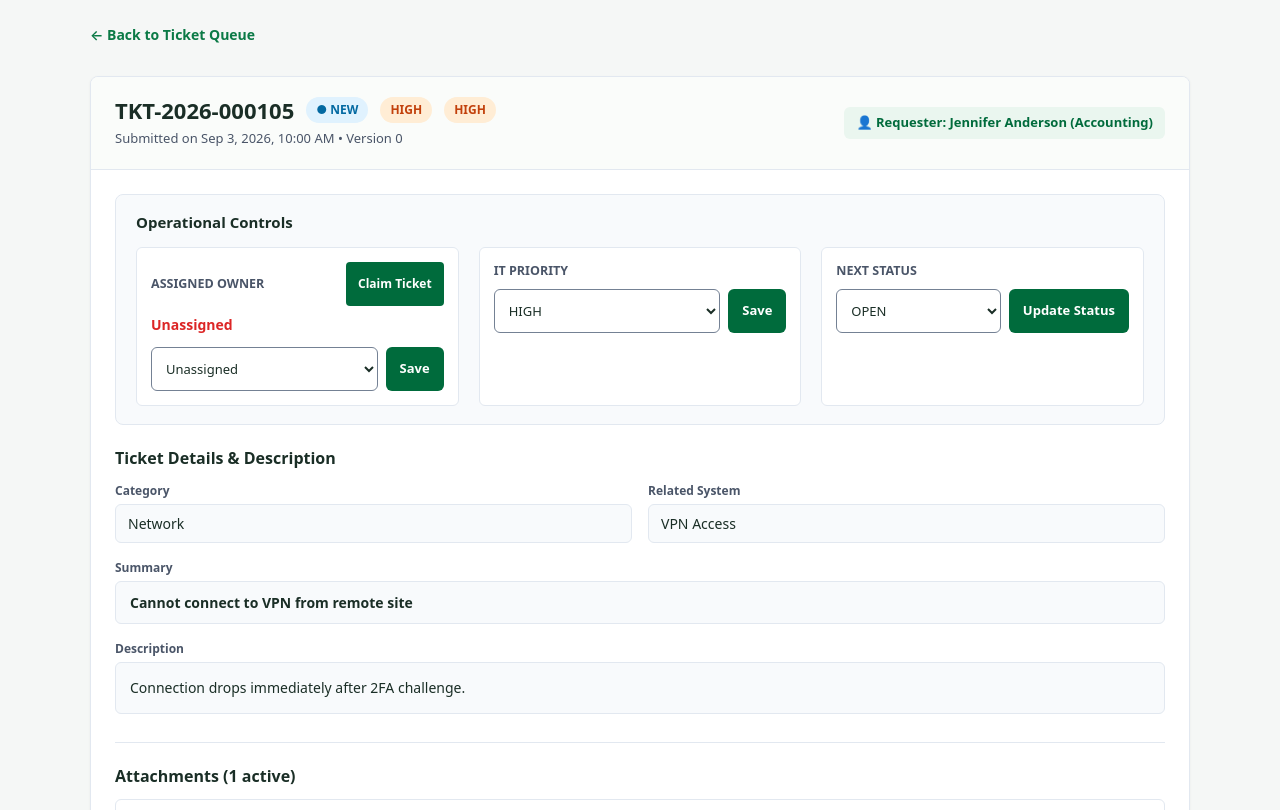
Test: UI-05, UI-06, UI-09: Staff Ticket Detail Operations Component › updates IT Priority and displays updated value
Step 1. Select "URGENT" in the dropdown with test id "select-it-priority" → (607, 311), box x1=494 y1=289 x2=720 y2=333
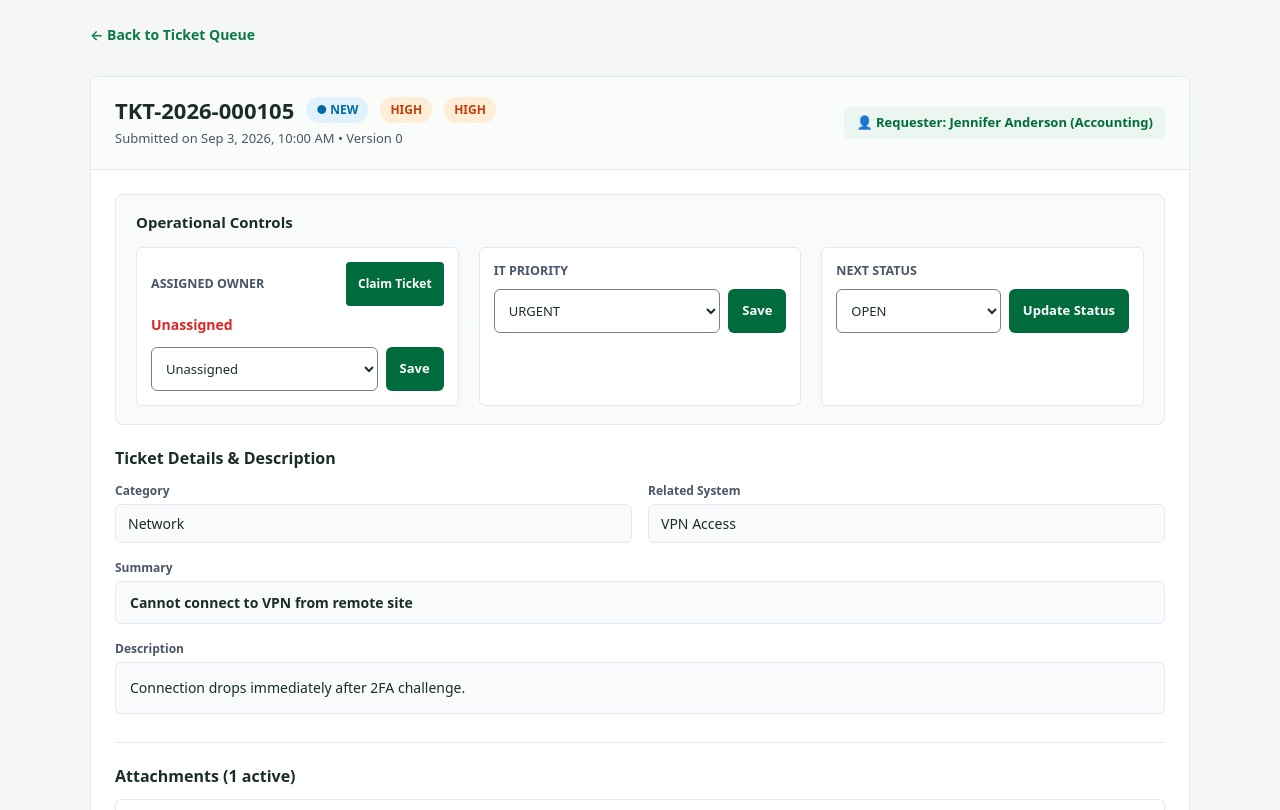
Step 2. Click the button with test id "btn-save-it-priority" → (757, 311), box x1=728 y1=289 x2=786 y2=333
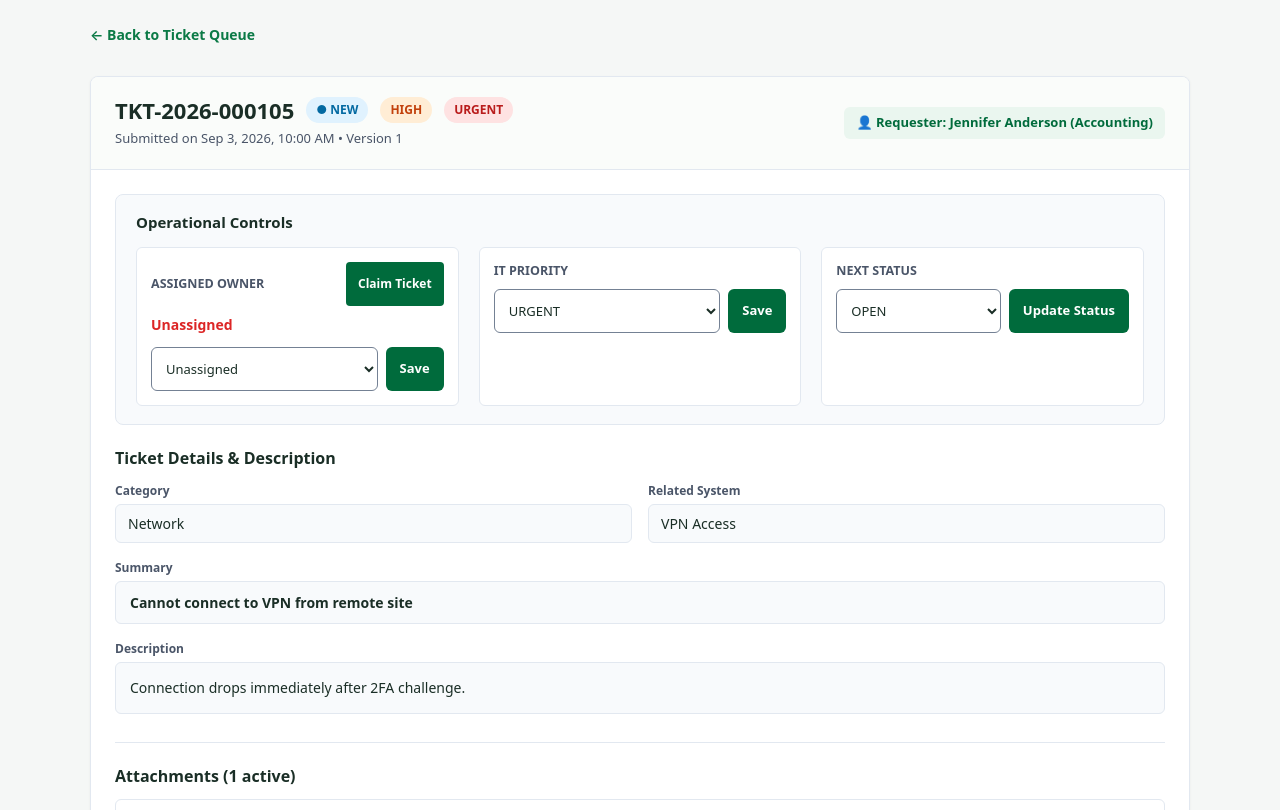
Result: the text with test id "it-priority-badge" reads "URGENT" at x1=454 y1=101 x2=503 y2=118
